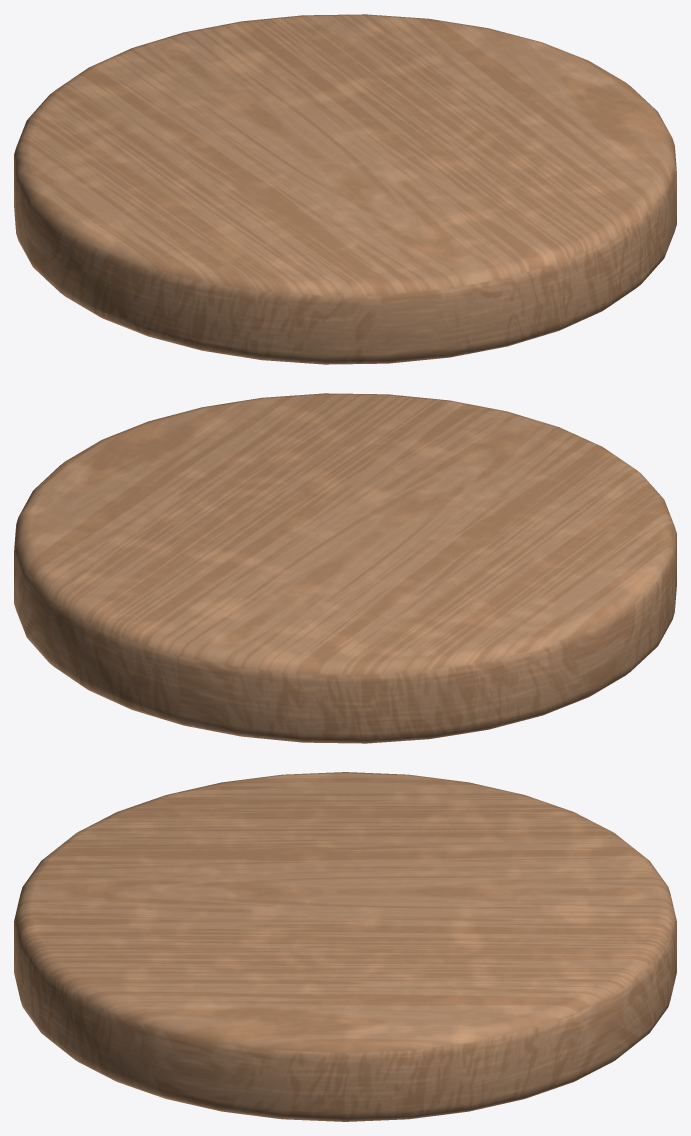
The model's file is base_superior.obj.
3 renders of one model, top to bottom at view 1: azimuth 30°, elevation 25°; view 2: azimuth 150°, elevation 25°; view 3: azimuth 270°, elevation 25°, orthographic.
Visible parts, largest first — view 1: Cylinder.002; view 2: Cylinder.002; view 3: Cylinder.002.
Boxes of the visible parts, x1=… form: Cylinder.002: x1=14, y1=14, x2=676, y2=364; Cylinder.002: x1=14, y1=393, x2=676, y2=743; Cylinder.002: x1=14, y1=772, x2=676, y2=1121.
Size of the model in its own units: 1.27 by 0.1706 by 1.27.
1 material, 1 textured.
